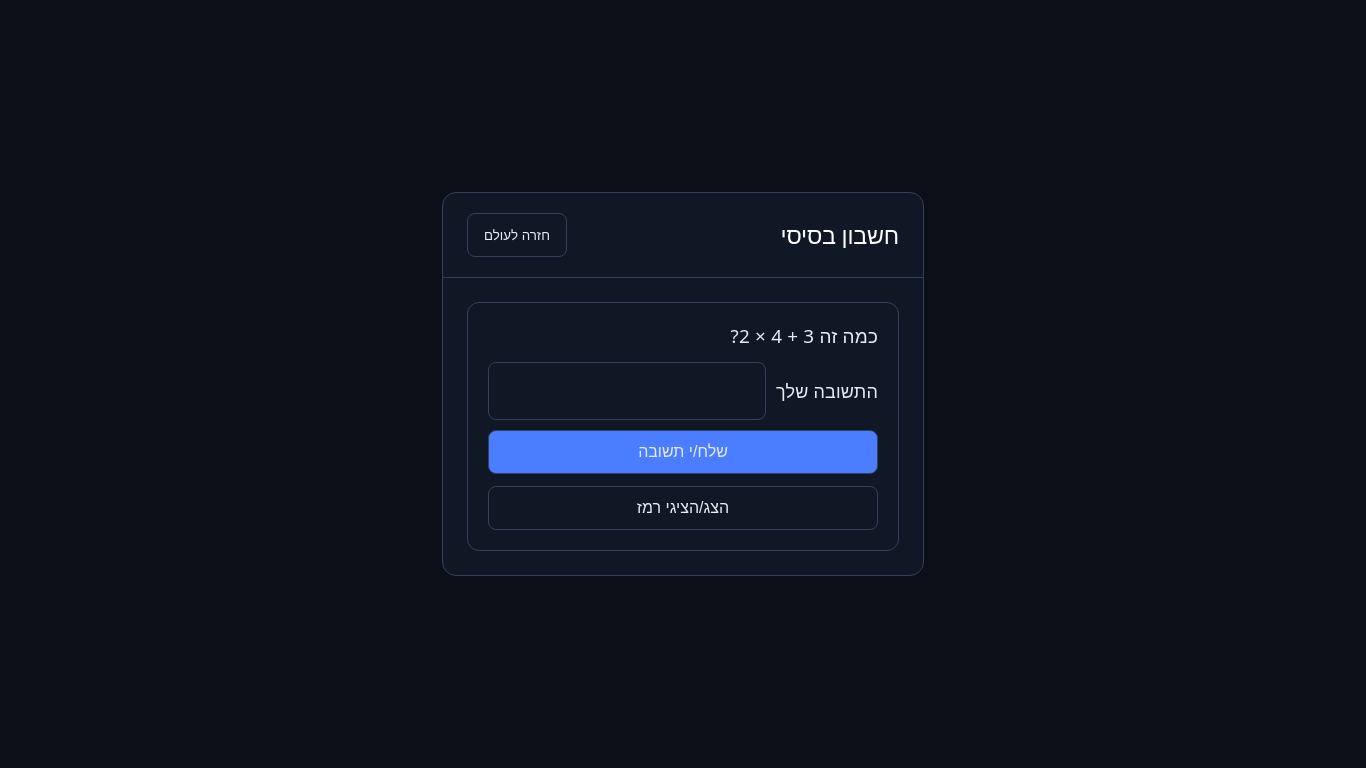
it: LessonStage — success wording (Batch 3A.5) › shows a distinct what-to-do-next line alongside the success message, once passed
In the number field with test id "math-answer-input": (627, 390) [488, 362, 766, 420], type "11"
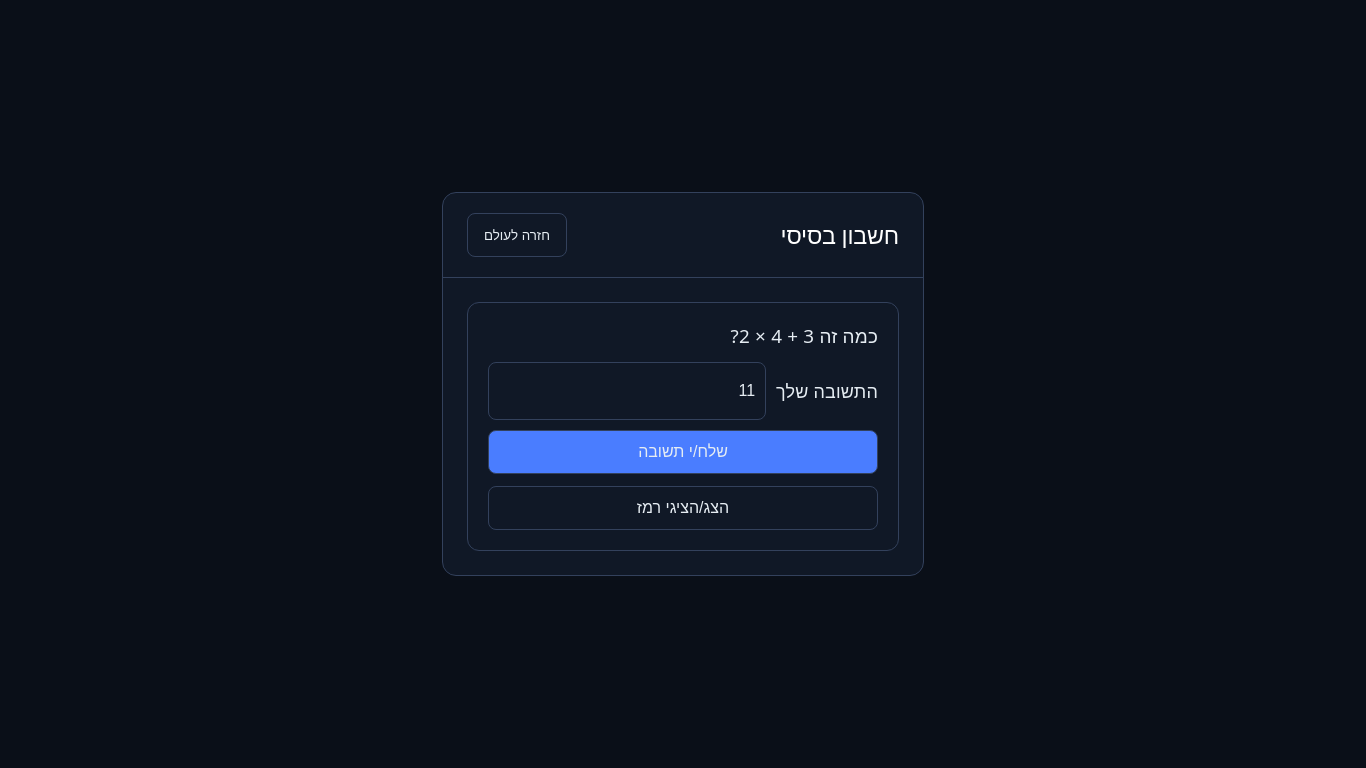
Click the button with test id "math-submit-button": (683, 452) [488, 430, 878, 474]
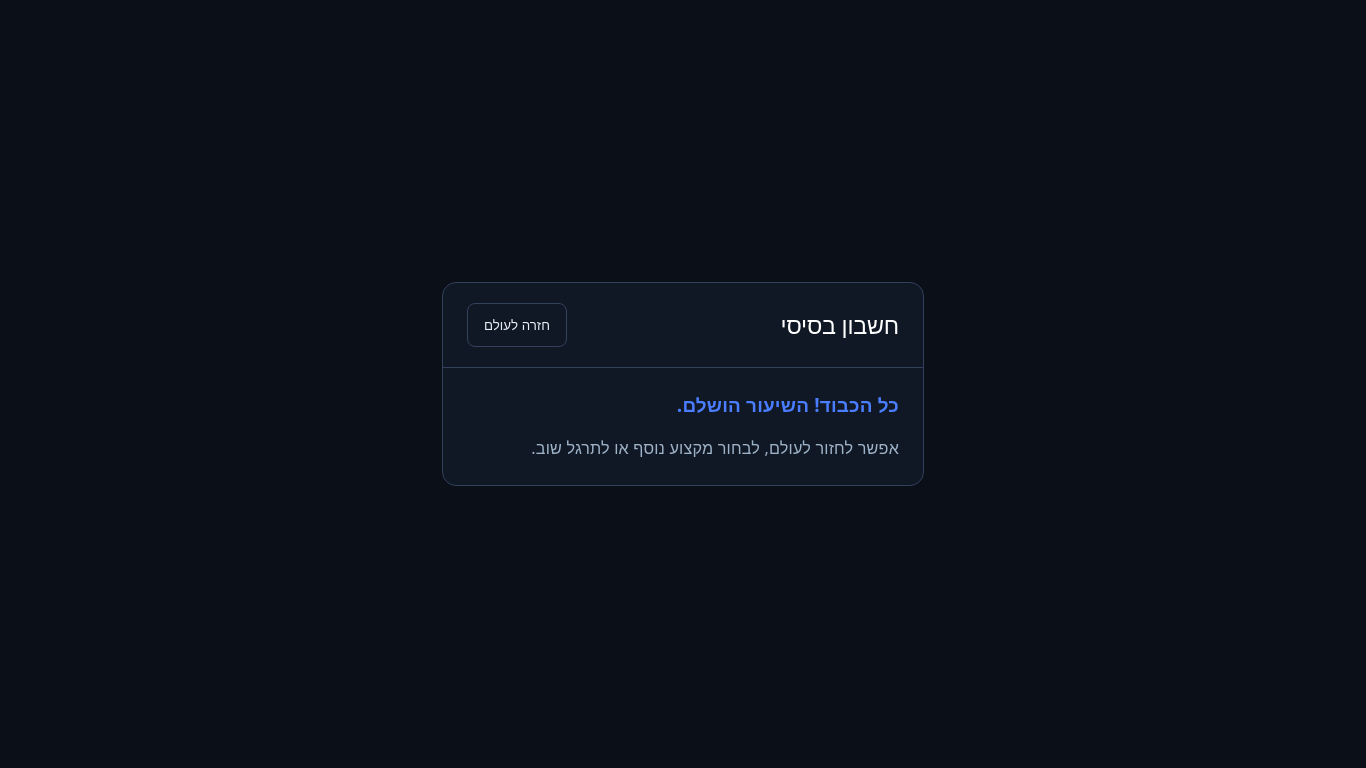
Check: the element with test id "lesson-success-next-steps" does not show "כל הכבוד! השיעור הושלם."
Check: the text with test id "lesson-success-next-steps" reads "אפשר לחזור לעולם, לבחור מקצוע נוסף או לתרגל שוב.", box [531, 436, 899, 458]
